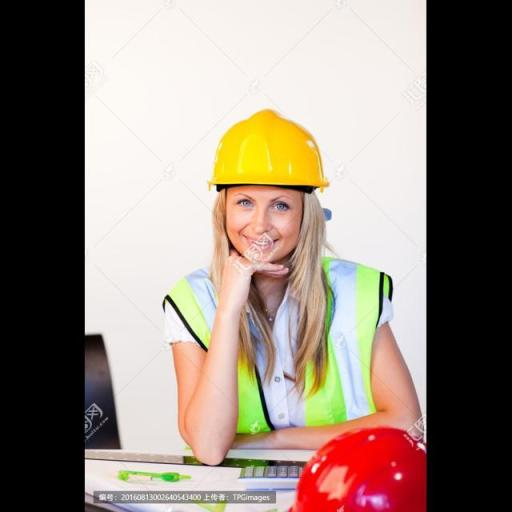Person: (163, 97, 423, 462)
helmet: (281, 409, 427, 512), (197, 104, 336, 194)
vest: (173, 240, 379, 447)
